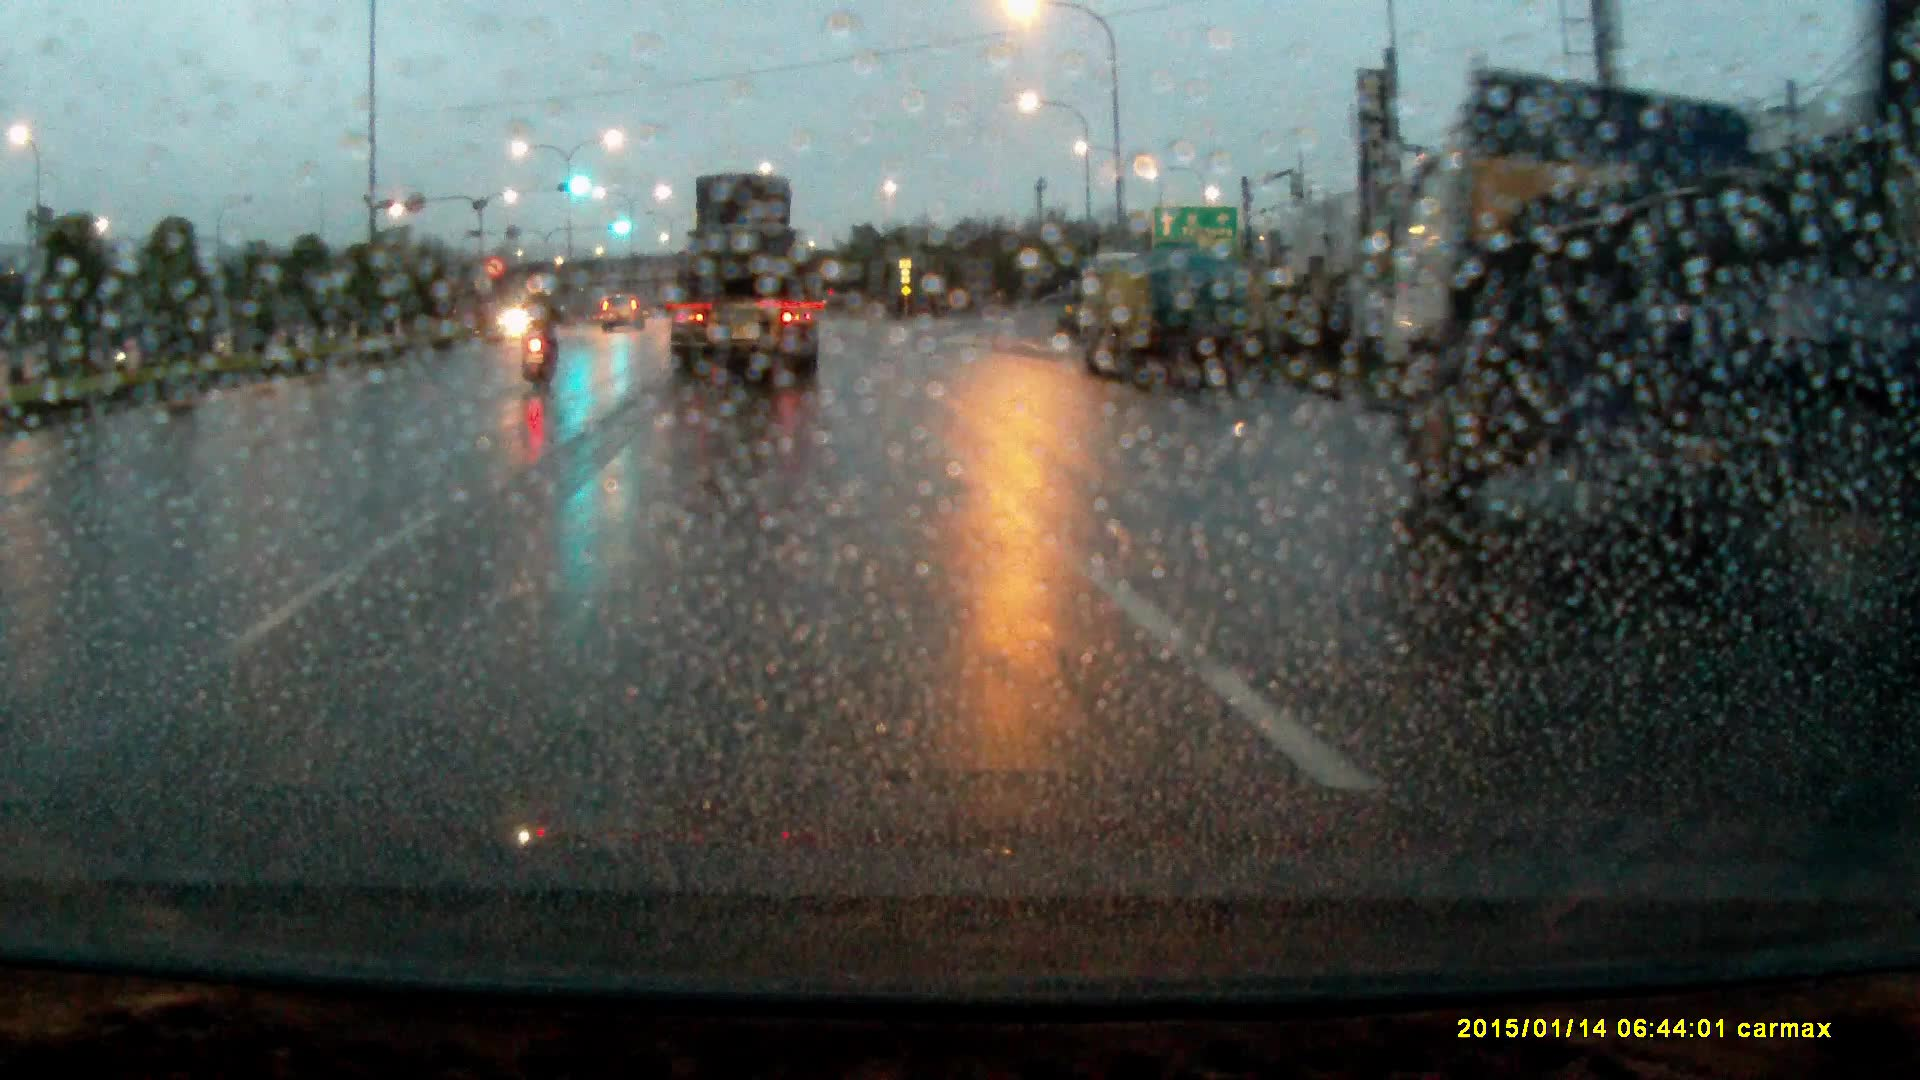rider: (517, 272, 571, 382)
vehicle: (1388, 69, 1920, 556), (664, 170, 824, 393), (1070, 254, 1253, 388), (602, 294, 647, 335)
